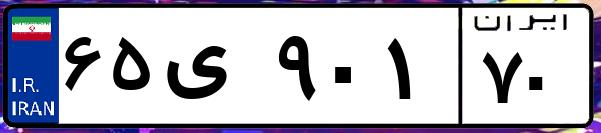0: (330, 28, 385, 110), (525, 38, 570, 115)
1: (385, 28, 445, 110)
5: (110, 28, 158, 98)
6: (57, 26, 110, 100)
7: (475, 38, 525, 113)
9: (270, 28, 330, 110)
ی: (158, 20, 270, 120)
